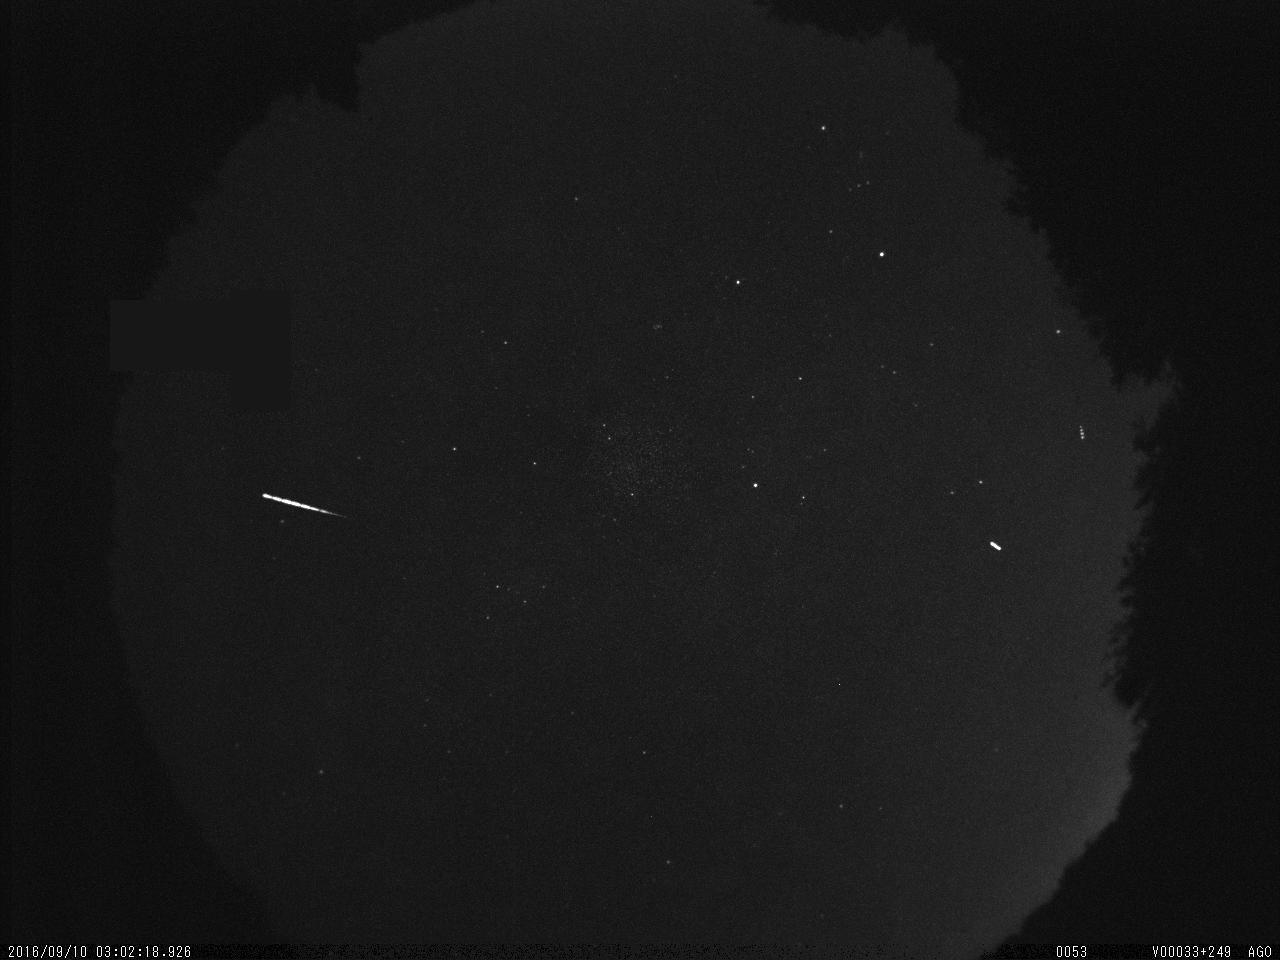meteor: (258, 484, 372, 530)
satelite: (986, 532, 1007, 560), (1074, 418, 1090, 450)
